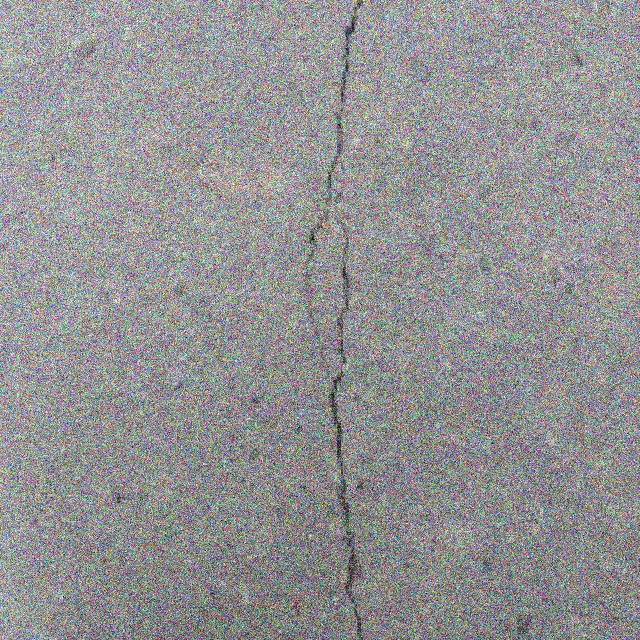SurfaceCrack: (282, 0, 404, 640)
